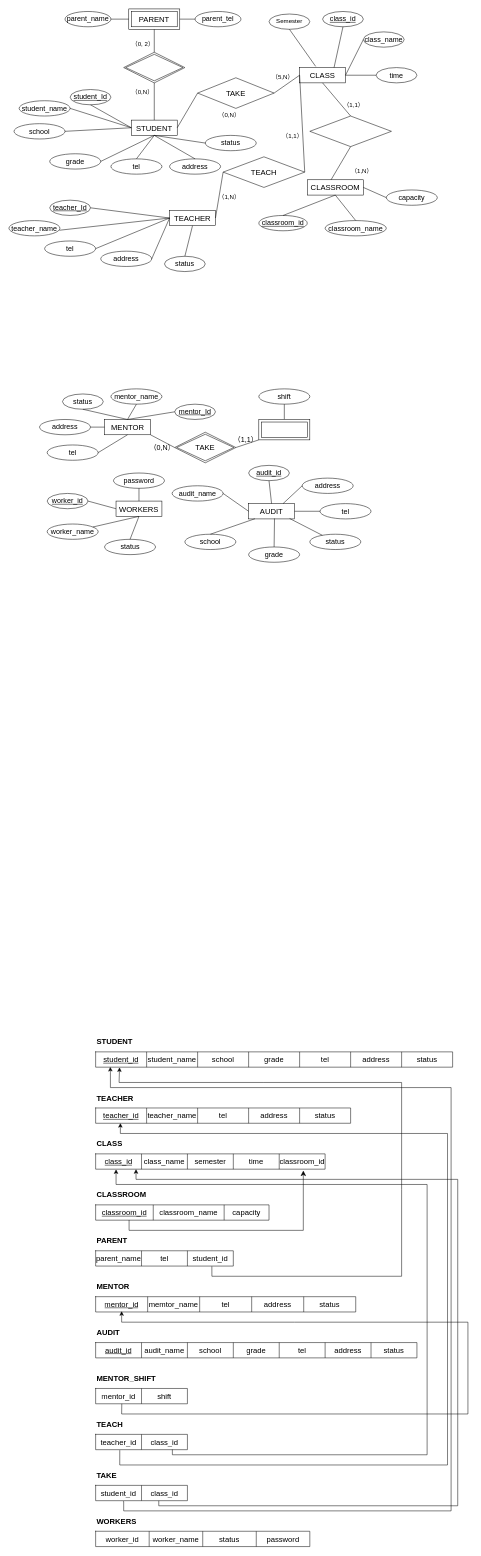
This 481x1556 diagram has some shape labels left out. The box of each missing label's shape, as (x1, y1, x2, y2) in pixels:
HAS: (123, 52, 185, 83)
MENTOR _SHIFT: (258, 419, 310, 440)
USE: (309, 116, 391, 147)
